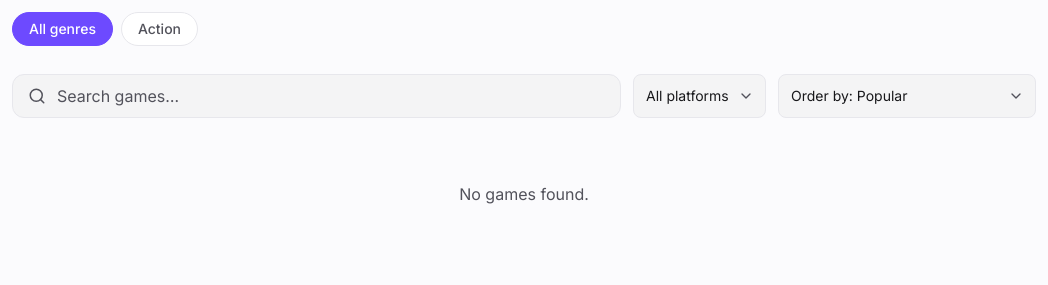
Test case: HomePage › writes the chosen sort order to the URL
Select "Order by: Average rating" in the dropdown named "Order games by" at (907,96), box [778,74,1036,118]
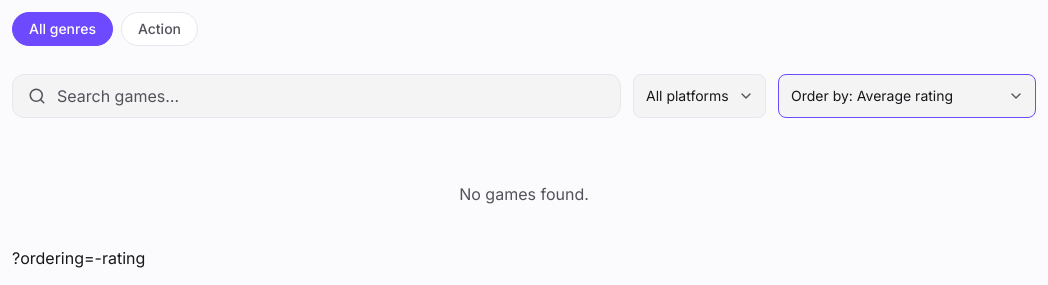
Now the text with test id "search" shows "ordering=-rating", box [12,248,145,268]
